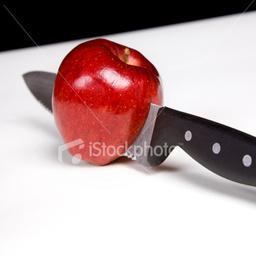apple: (51, 37, 164, 165)
